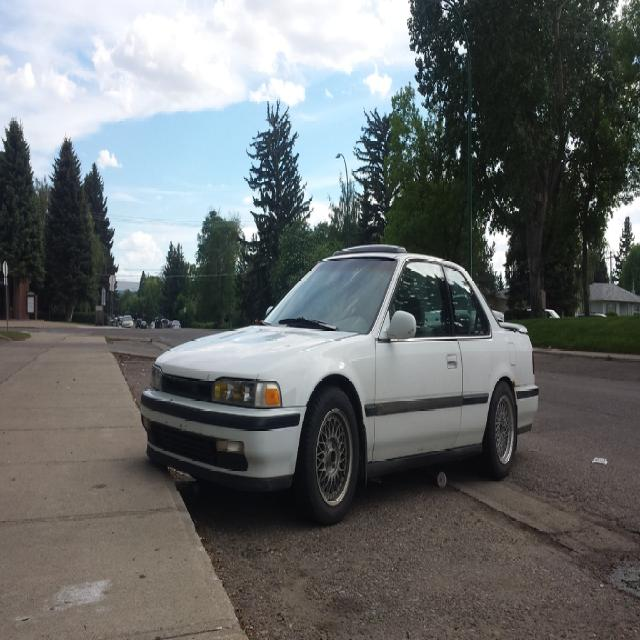car: (135, 244, 536, 515)
